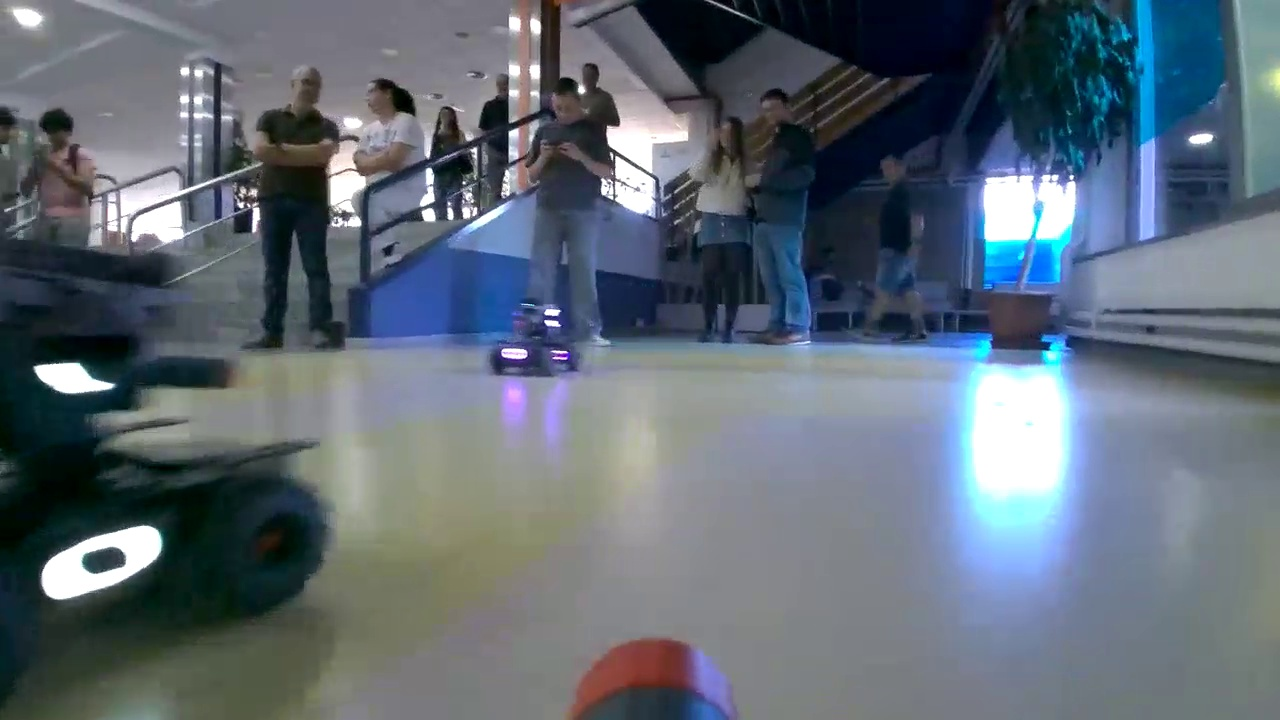robot: (1, 318, 330, 640), (490, 296, 582, 376)
